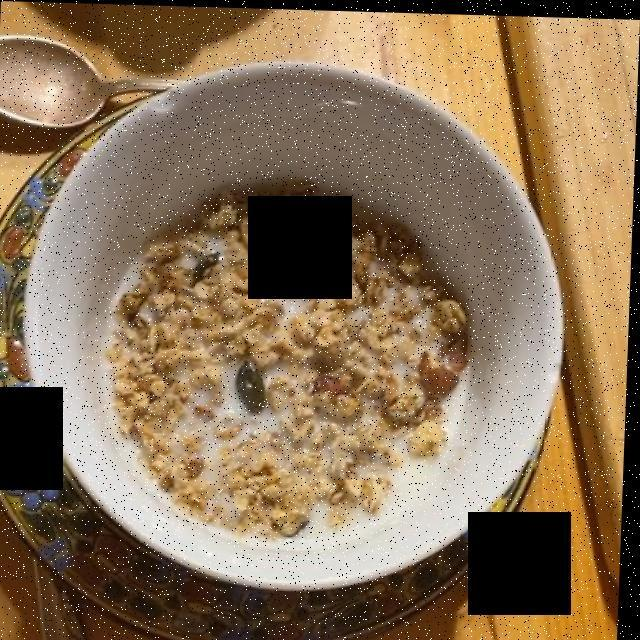crunch-muesli: (115, 201, 466, 533)
milk: (120, 227, 458, 525)
